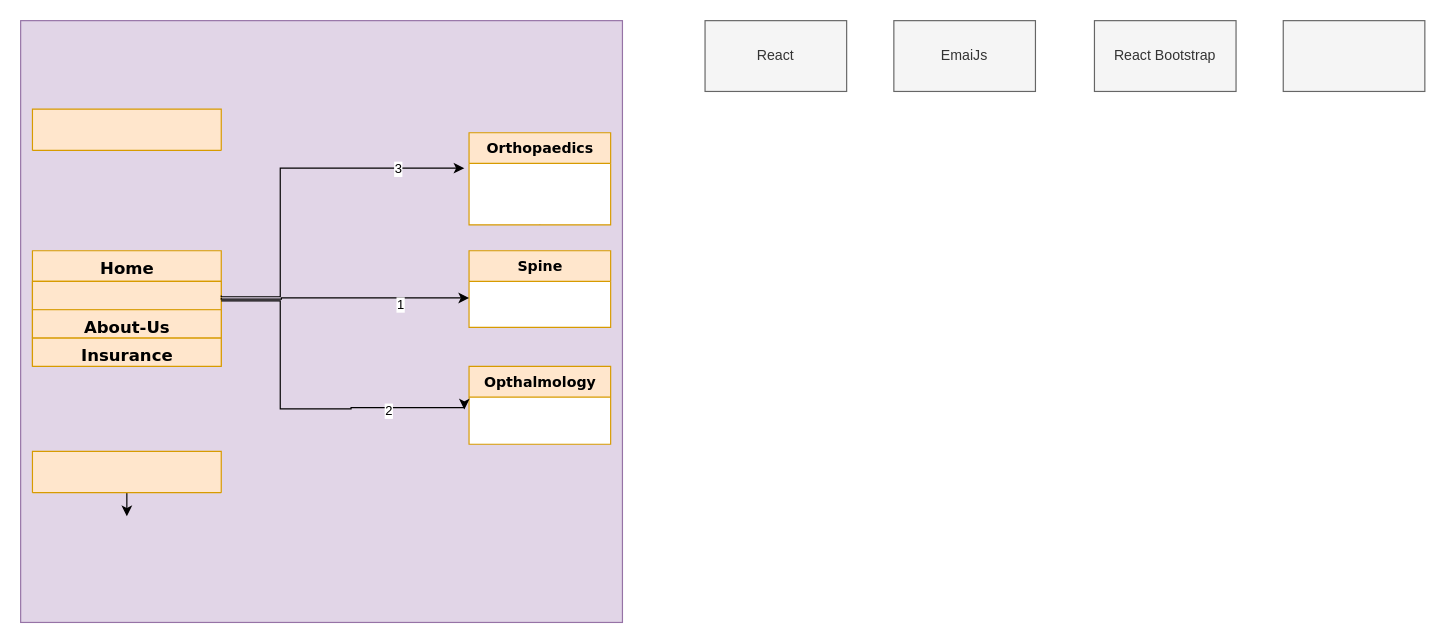
Some shapes in this 1445 by 643 pixel diagram are drawn without their labels. The shapes that lost their labels are listed below. From the top down, each one's centre as x and y in pixels, then its label:
pixel 126 129: Header
pixel 126 295: Services
pixel 126 471: Footer
